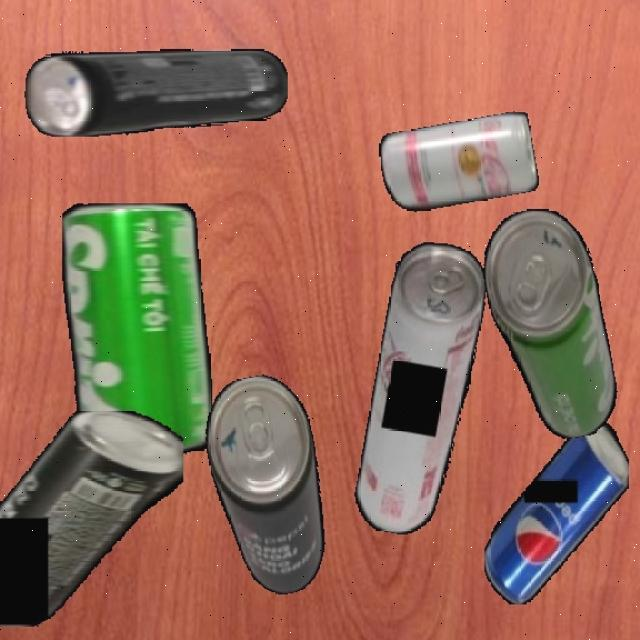debris: (350, 237, 493, 541), (0, 409, 183, 627), (62, 202, 212, 454), (474, 200, 624, 448), (197, 369, 339, 602), (483, 418, 629, 604), (24, 47, 288, 136), (377, 110, 540, 216)
